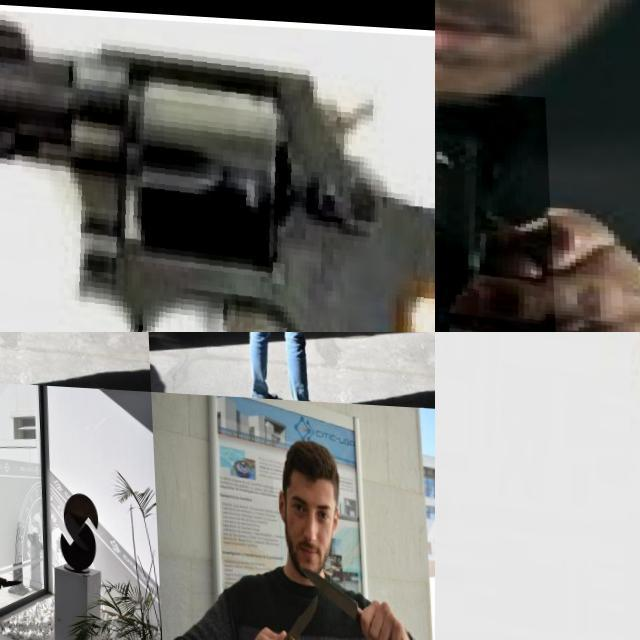-: (293, 558, 359, 622), (270, 584, 315, 640), (0, 332, 14, 365), (250, 332, 267, 355), (0, 573, 18, 589)
gun-knife-thesis - v11 Yolov5 augmented: (0, 7, 435, 332), (435, 332, 640, 640), (435, 81, 555, 332)
